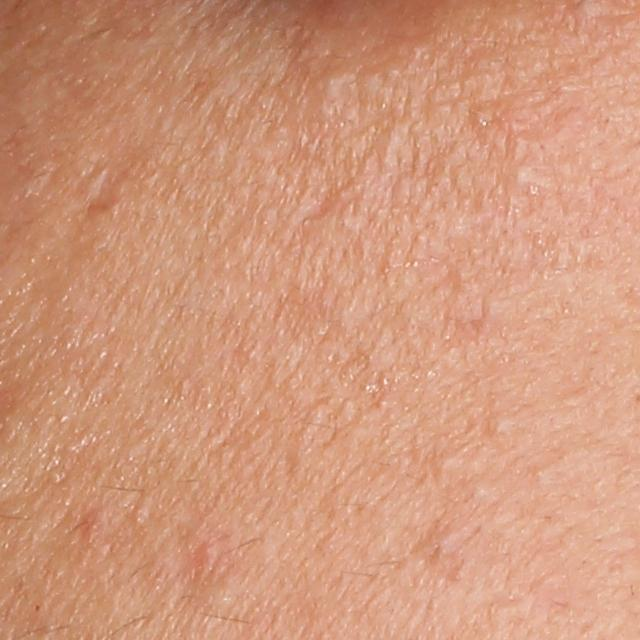atrophic_scar: (85, 163, 127, 217)
comedo: (320, 65, 354, 105), (507, 159, 543, 193), (485, 407, 512, 436), (430, 451, 458, 475), (127, 504, 151, 523), (530, 466, 551, 483)
